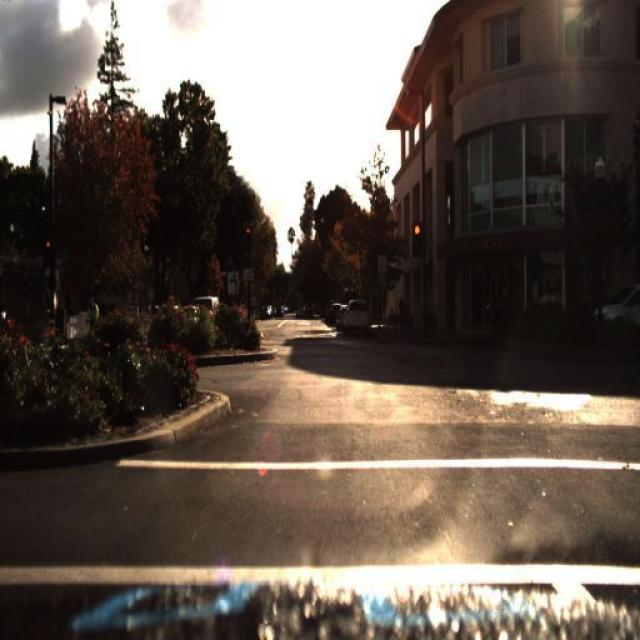semaforo: (412, 223, 423, 257), (43, 236, 54, 268)
